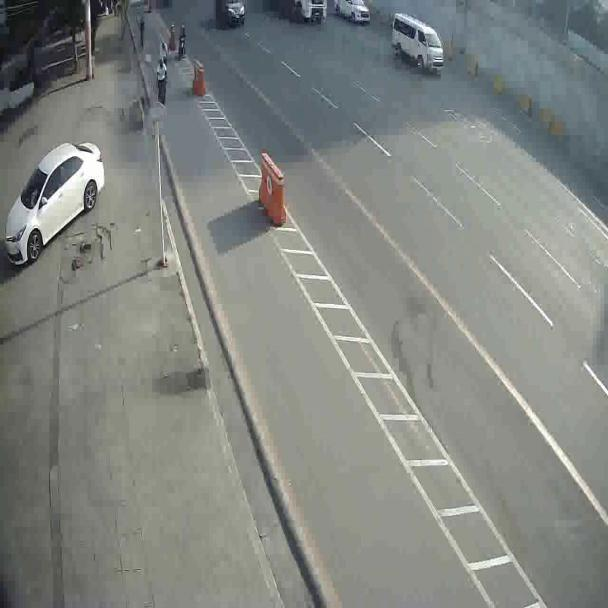vehicle: (7, 142, 104, 272), (392, 13, 444, 72), (338, 1, 372, 25), (218, 1, 246, 29)
